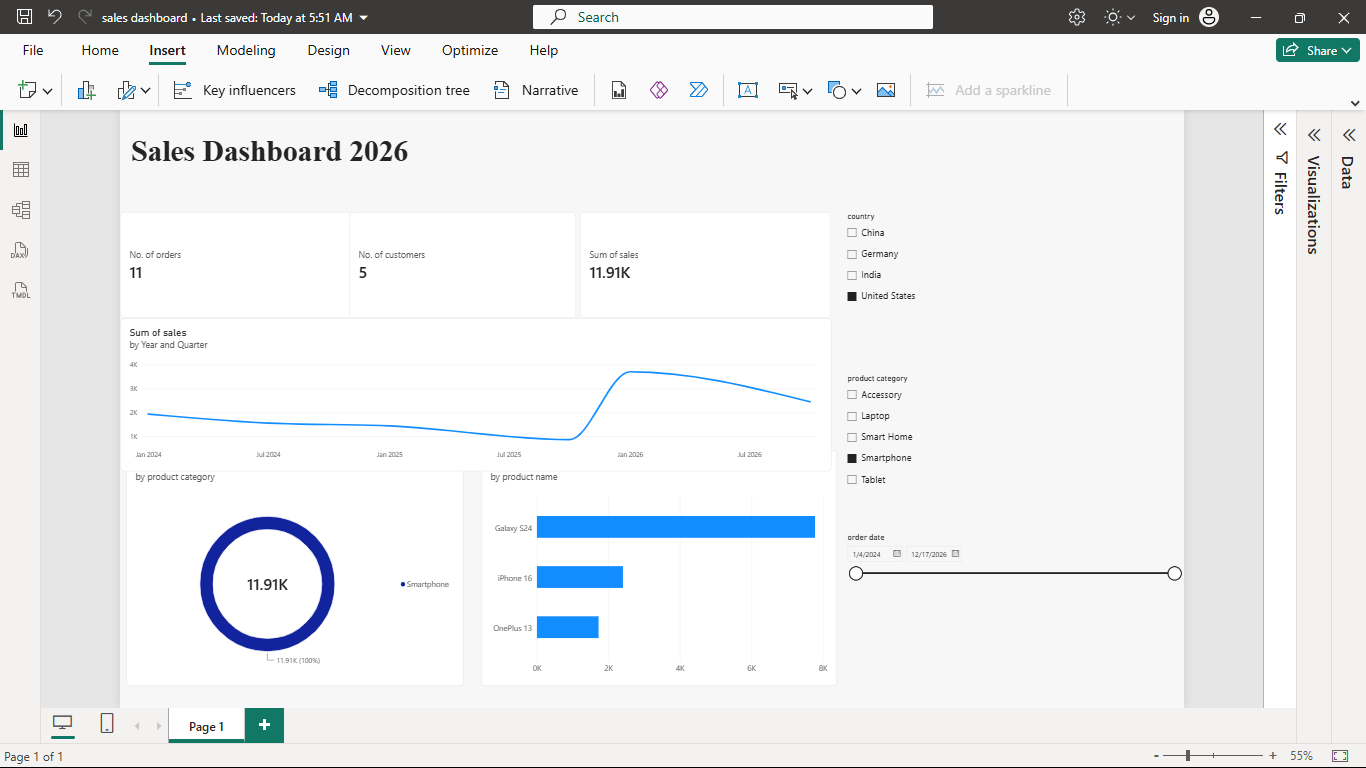

The page's visual inventory and layout, read from the dashboard file:
{"tool":"powerbi","page":{"name":"Page 1","canvas":[1920,1080],"ordinal":0},"visuals":[{"type":"barChart","fields":{"Category":["orders.product name"],"Y":["Sum(orders.sales)"]},"box":[652.6,614.8,642.5,425.8],"z":0},{"type":"donutChart","fields":{"Category":["orders.product category"],"Y":["Sum(orders.sales)"]},"box":[10.1,614.8,609.8,425.8],"z":1000},{"type":"cardVisual","fields":{"Data":["CountNonNull(orders.order id)"]},"box":[0,183.9,418.3,191.5],"z":2000},{"type":"cardVisual","fields":{"Data":["Count(orders.customer_id)"]},"box":[413.2,183.9,410.7,191.5],"z":3000},{"type":"cardVisual","fields":{"Data":["Sum(orders.sales)"]},"box":[831.5,183.9,453.5,191.5],"z":4000},{"type":"lineChart","fields":{"Category":["orders.order date.Variation.Date Hierarchy.Year","orders.order date.Variation.Date Hierarchy.Quarter","orders.order date.Variation.Date Hierarchy.Month","orders.order date.Variation.Date Hierarchy.Day"],"Y":["Sum(orders.sales)"]},"box":[0,375.4,1285,277.2],"z":4001},{"type":"slicer","fields":{"Values":["customers.country"]},"box":[1305.2,183.9,615,277],"z":4002},{"type":"slicer","fields":{"Values":["orders.product category"]},"box":[1305.2,476.2,615,277],"z":4003},{"type":"slicer","fields":{"Values":["orders.order date"]},"box":[1305.2,763.5,615,277],"z":4004},{"type":"textbox","box":[1296,930,614,150],"z":4005},{"type":"textbox","box":[20.2,42.8,992.8,118.4],"z":4006}]}

Visuals, with their boxes on the page's 1920x1080 design canvas (x1, y1, x2, y2). These are canvas units, not pixel positions in the 1366x768 screenshot, which may show the page scaled, cropped or inside an application window:
barChart - orders.product name x Sum(orders.sales): l=653, t=615, r=1295, b=1041
donutChart - orders.product category x Sum(orders.sales): l=10, t=615, r=620, b=1041
cardVisual - CountNonNull(orders.order id): l=0, t=184, r=418, b=375
cardVisual - Count(orders.customer_id): l=413, t=184, r=824, b=375
cardVisual - Sum(orders.sales): l=832, t=184, r=1285, b=375
lineChart - orders.order date.Variation.Date Hierarchy.Year x orders.order date.Variation.Date Hierarchy.Quarter: l=0, t=375, r=1285, b=653
slicer - customers.country: l=1305, t=184, r=1920, b=461
slicer - orders.product category: l=1305, t=476, r=1920, b=753
slicer - orders.order date: l=1305, t=764, r=1920, b=1040
textbox: l=1296, t=930, r=1910, b=1080
textbox: l=20, t=43, r=1013, b=161
